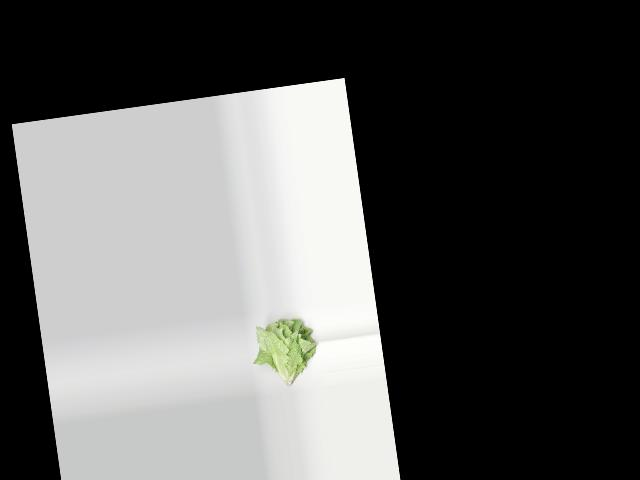lettuce: (249, 311, 326, 394)
